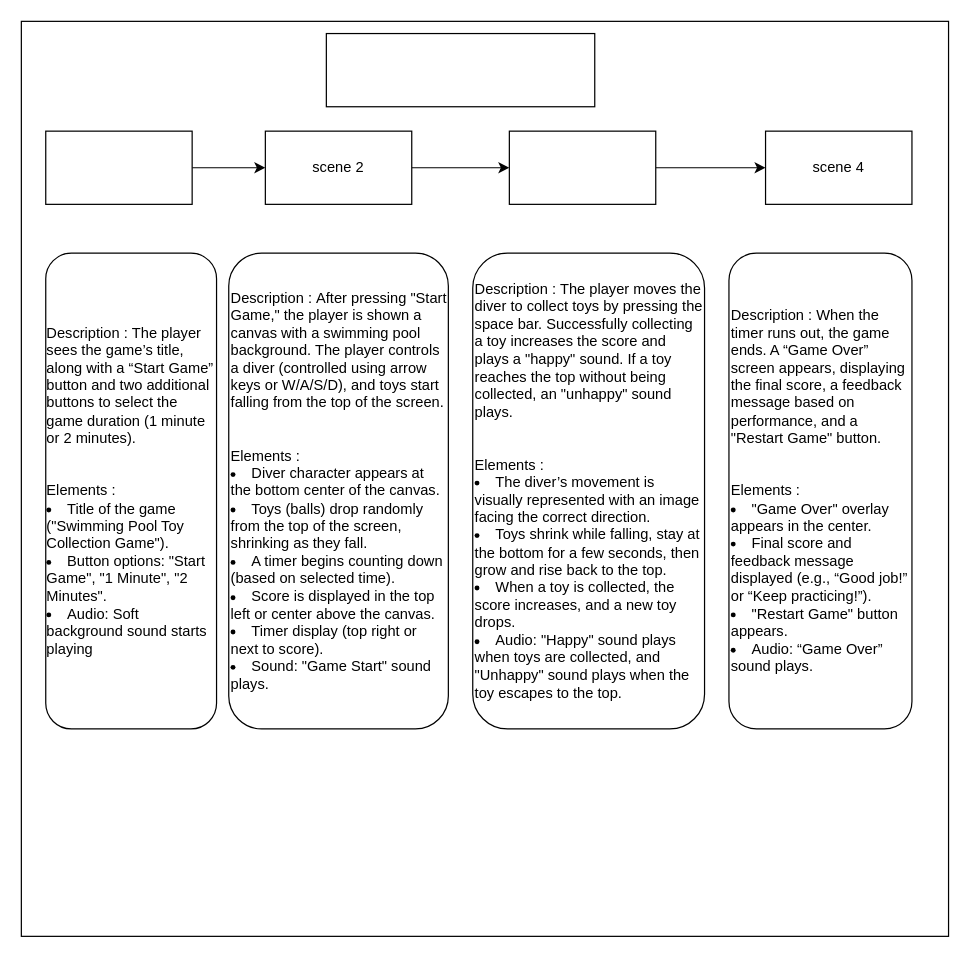
This 970x958 diagram has some shape labels left out. Each missing label, with the box of its shape:
scene 1: (45, 130, 192, 204)
scene 3: (508, 130, 656, 204)
STORYBOARD: (325, 32, 595, 107)
